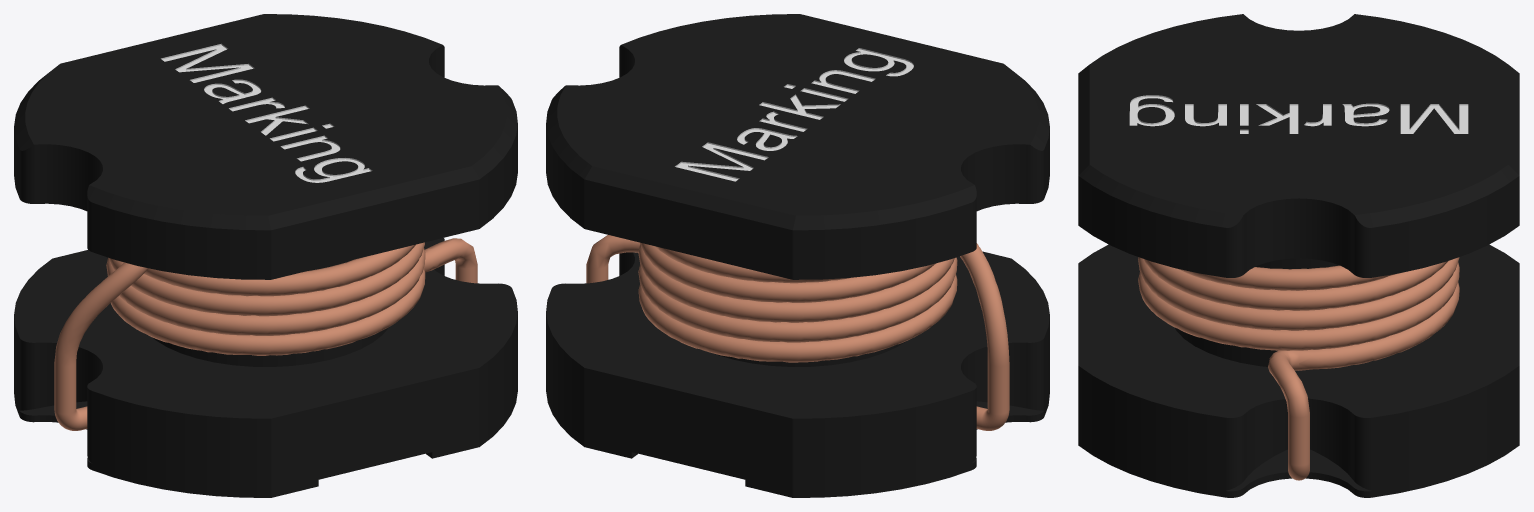
File: WE-PD2 SMT Power Inductor.gltf
3 renders of one model, left to right at view 1: azimuth 30°, elevation 25°; view 2: azimuth 150°, elevation 25°; view 3: azimuth 270°, elevation 25°, orthographic.
Visible parts, largest first — view 1: Unnamed4; view 2: Unnamed4; view 3: Unnamed4.
Part boxes in pixels (box(x1,y1,x2,y2)): Unnamed4: box(14, 14, 517, 497); Unnamed4: box(546, 14, 1049, 497); Unnamed4: box(1078, 14, 1519, 497).
Bounding box in the file's own units: 0.00334 × 0.0021 × 0.003.
